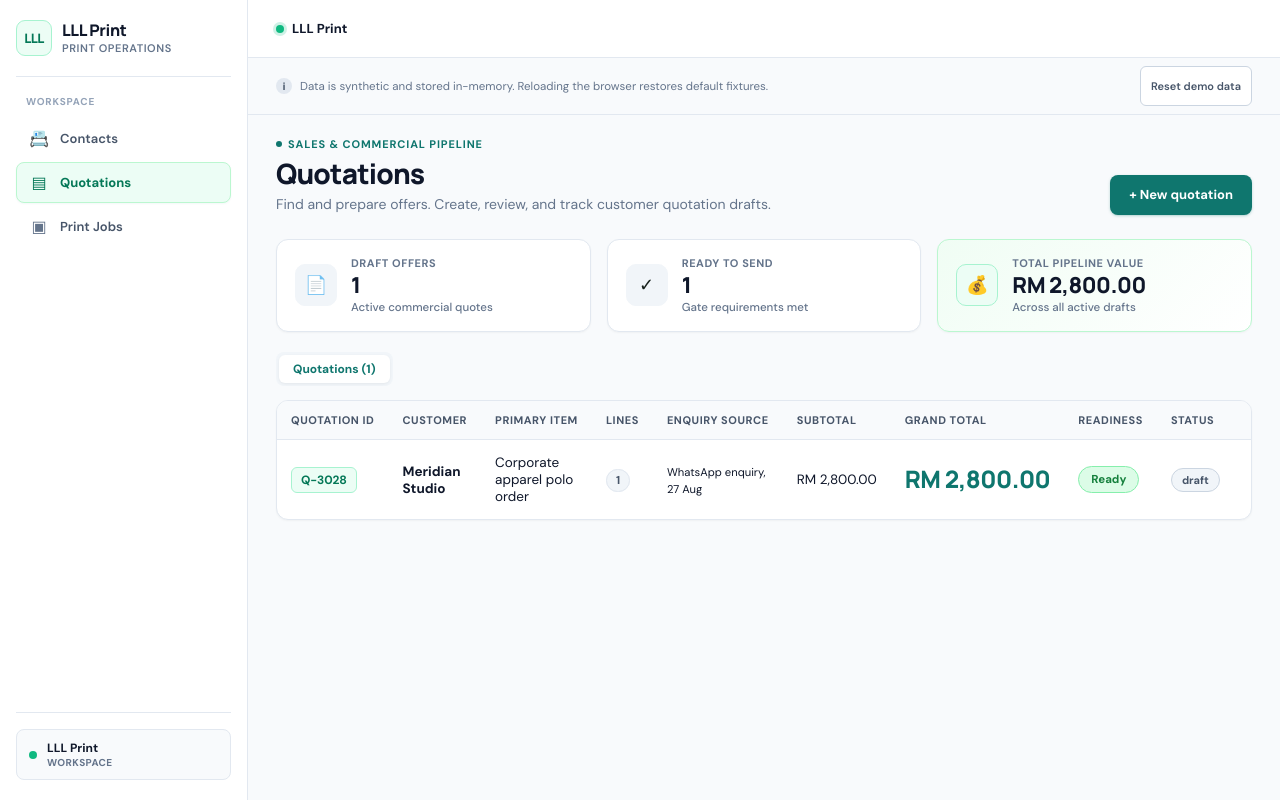
Test: Unsaved quotation changes protection (SDD "Unsaved navigation", AT-06) › closes an untouched new-quotation form immediately on Cancel (unchanged forms close normally)
Step 1. Click the button "+ New quotation" → (1181, 195), box [1110, 175, 1252, 215]
(page scrolled)
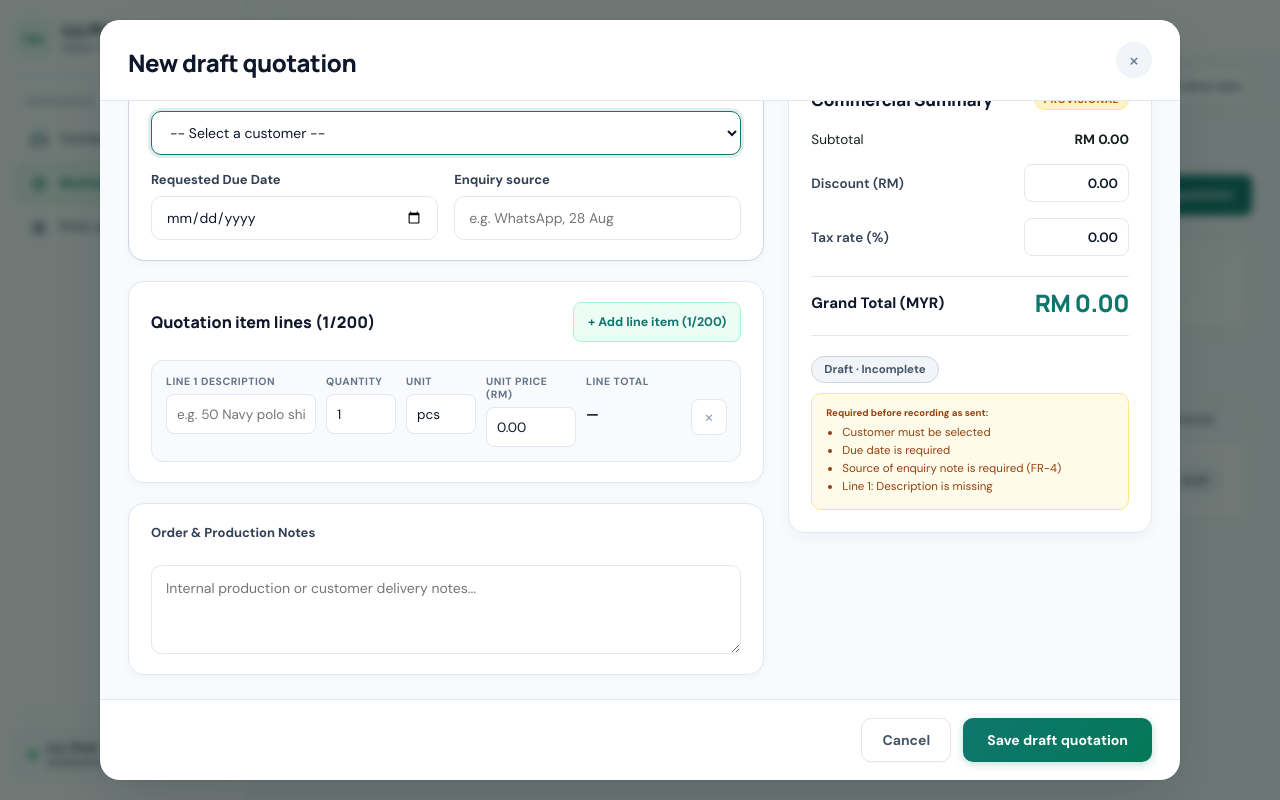
Check: the dialog "New draft quotation" is shown
Step 2. Click the button "Cancel" → (906, 740), box [861, 718, 951, 762]
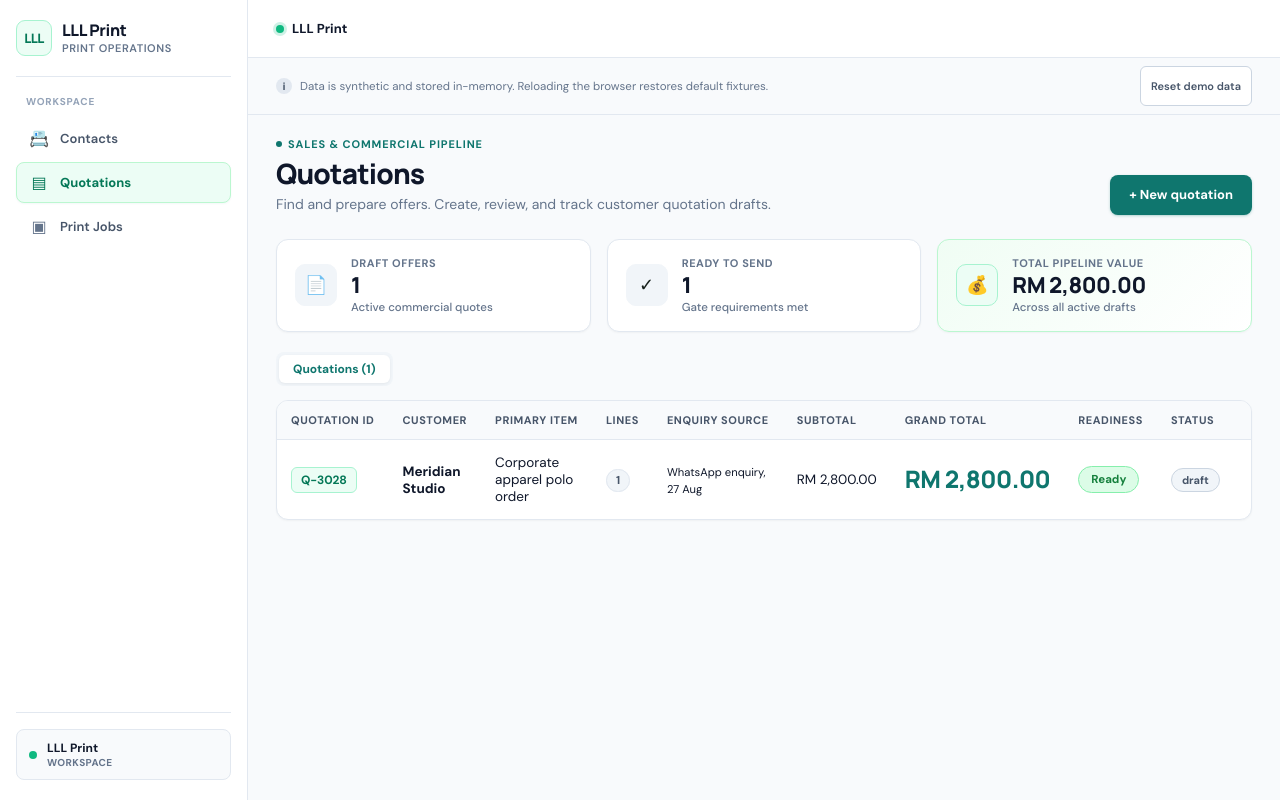
Check: the dialog is gone
